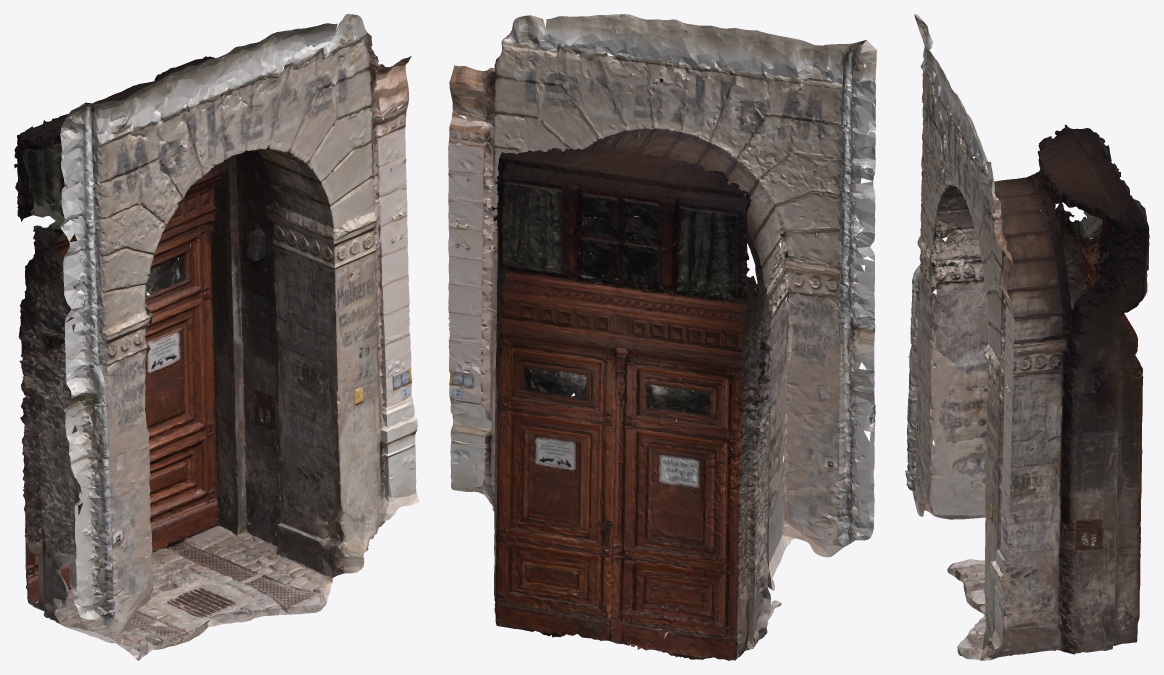
3 renders of one model, left to right at view 1: azimuth 30°, elevation 25°; view 2: azimuth 150°, elevation 25°; view 3: azimuth 270°, elevation 25°, orthographic. The views are drawn at different scales.
Visible parts, largest first — view 1: 1k.25k; view 2: 1k.25k; view 3: 1k.25k.
Part boxes in pixels (x1,y1,x2,y2): 1k.25k: (14, 14, 419, 660); 1k.25k: (448, 14, 876, 660); 1k.25k: (905, 14, 1149, 660).
Bounding box in the file's own units: 5.35 × 7.63 × 3.18.
1 material, 1 textured.
